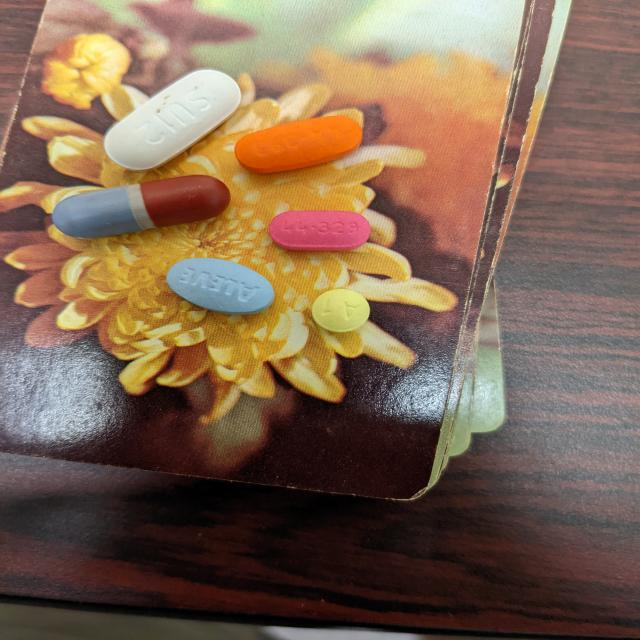non-organic waste: (102, 68, 243, 173), (50, 174, 233, 240), (234, 114, 364, 174), (165, 256, 275, 316), (267, 208, 372, 253), (311, 288, 371, 334)
